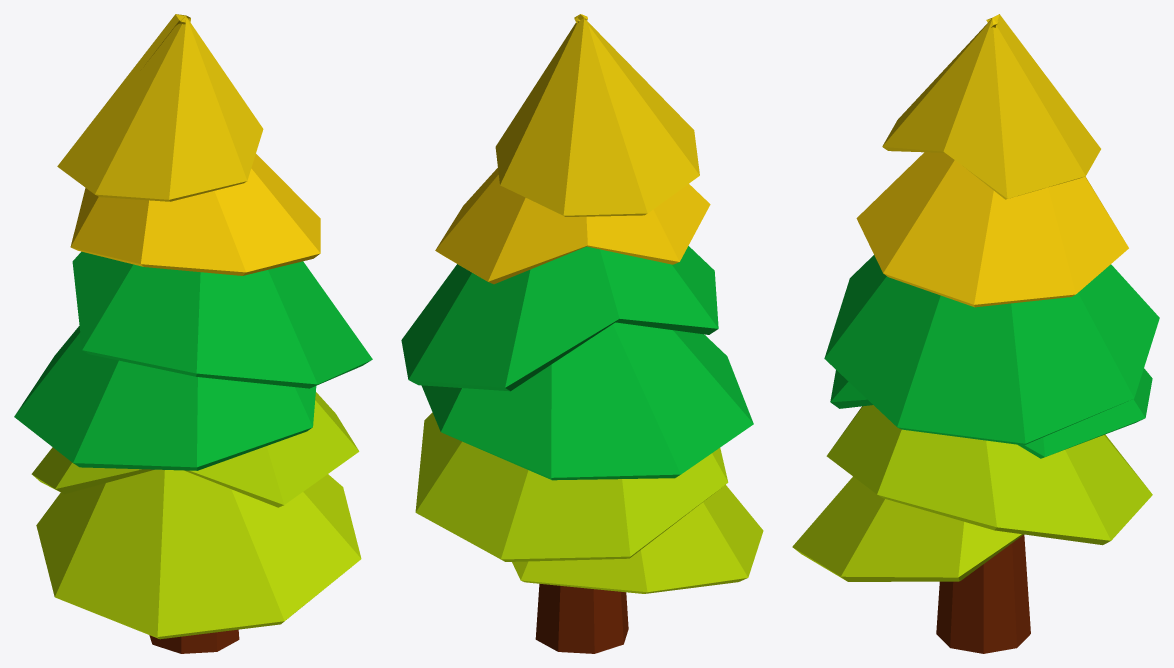
File: fikipohon - Copy.fbx
The picture shows the model from 3 angles, left to right: view 1: azimuth 30°, elevation 25°; view 2: azimuth 150°, elevation 25°; view 3: azimuth 270°, elevation 25°; orthographic projection.
Parts seen in each view (by area): view 1: Circle.005, Circle.006, Circle.002, Circle.004, Circle.003, Circle.001, Cylinder; view 2: Circle.002, Circle.006, Circle.004, Circle.001, Circle.003, Circle.005, Cylinder; view 3: Circle.006, Circle.003, Circle.001, Circle.004, Circle.005, Cylinder, Circle.002.
Boxes of the visible parts, x1,y1,x2,y2 form: Circle.005: [36, 469, 361, 639]; Circle.006: [72, 251, 372, 388]; Circle.002: [14, 326, 316, 470]; Circle.004: [57, 14, 263, 201]; Circle.003: [70, 154, 320, 275]; Circle.001: [31, 392, 359, 507]; Cylinder: [149, 629, 239, 653]; Circle.002: [421, 322, 753, 480]; Circle.006: [401, 246, 718, 391]; Circle.004: [495, 14, 699, 216]; Circle.001: [415, 412, 728, 561]; Circle.003: [435, 168, 710, 284]; Circle.005: [512, 485, 763, 593]; Cylinder: [535, 583, 628, 653]; Circle.006: [824, 255, 1159, 445]; Circle.003: [856, 152, 1128, 307]; Circle.001: [826, 405, 1152, 545]; Circle.004: [882, 14, 1100, 199]; Circle.005: [792, 476, 1023, 581]; Cylinder: [936, 535, 1030, 653]; Circle.002: [830, 368, 1152, 458].
Size of the model in its own units: 3070 by 5858 by 3174.
